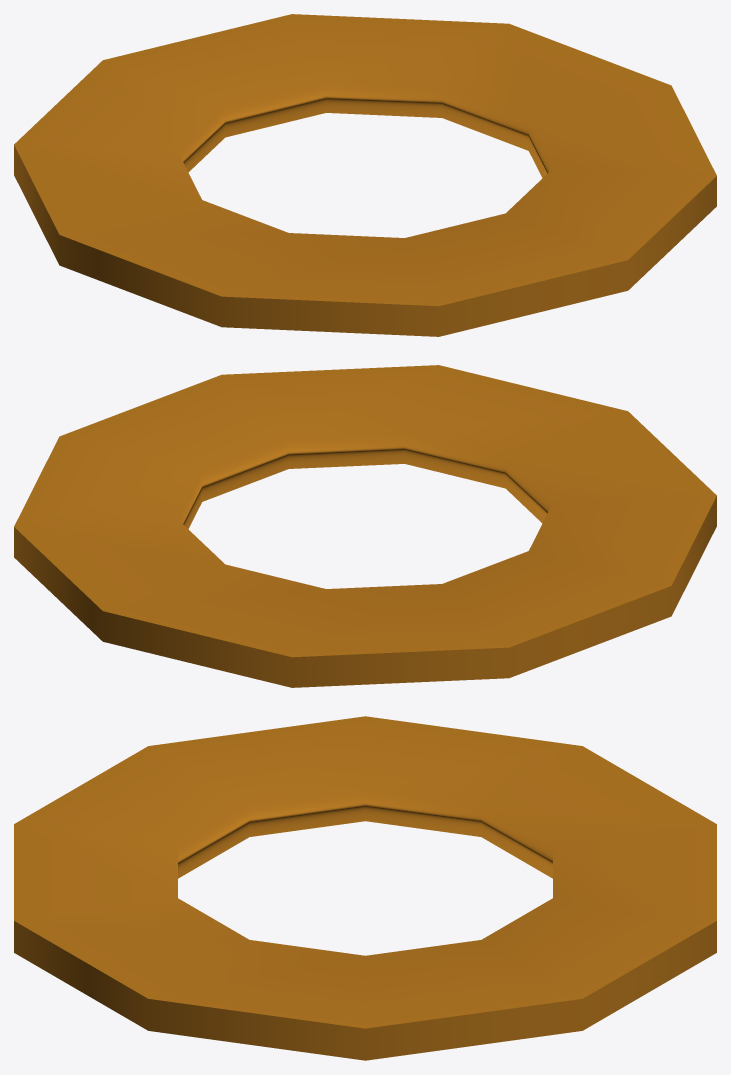
The model's file is Small_Led_Hole.fbx.
3 views of the same model, one above another, from view 1: azimuth 30°, elevation 25°; view 2: azimuth 150°, elevation 25°; view 3: azimuth 270°, elevation 25° (orthographic). The views are drawn at different scales.
Parts seen in each view (by area): view 1: Small_Led_Hole; view 2: Small_Led_Hole; view 3: Small_Led_Hole.
Boxes of the visible parts, bbox=[...] form: Small_Led_Hole: bbox=[14, 14, 716, 336]; Small_Led_Hole: bbox=[14, 365, 716, 687]; Small_Led_Hole: bbox=[14, 716, 716, 1060].
Size of the model in its own units: 1.63 by 0.0778 by 1.55.
